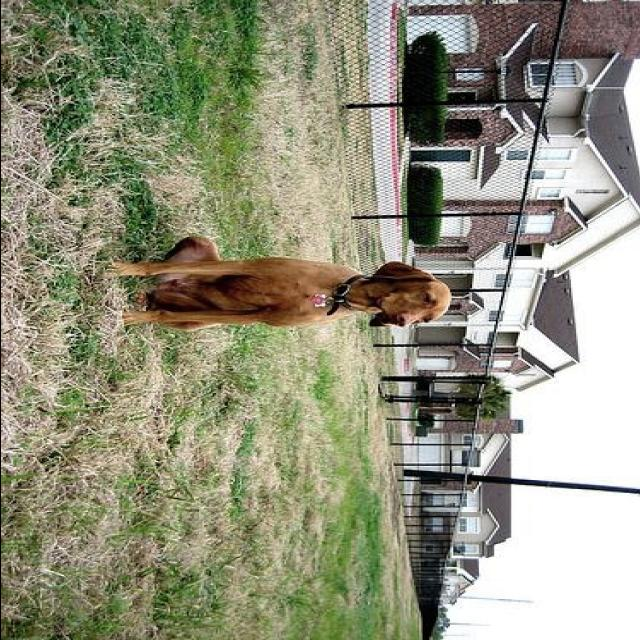vizsla: (94, 232, 450, 330)
